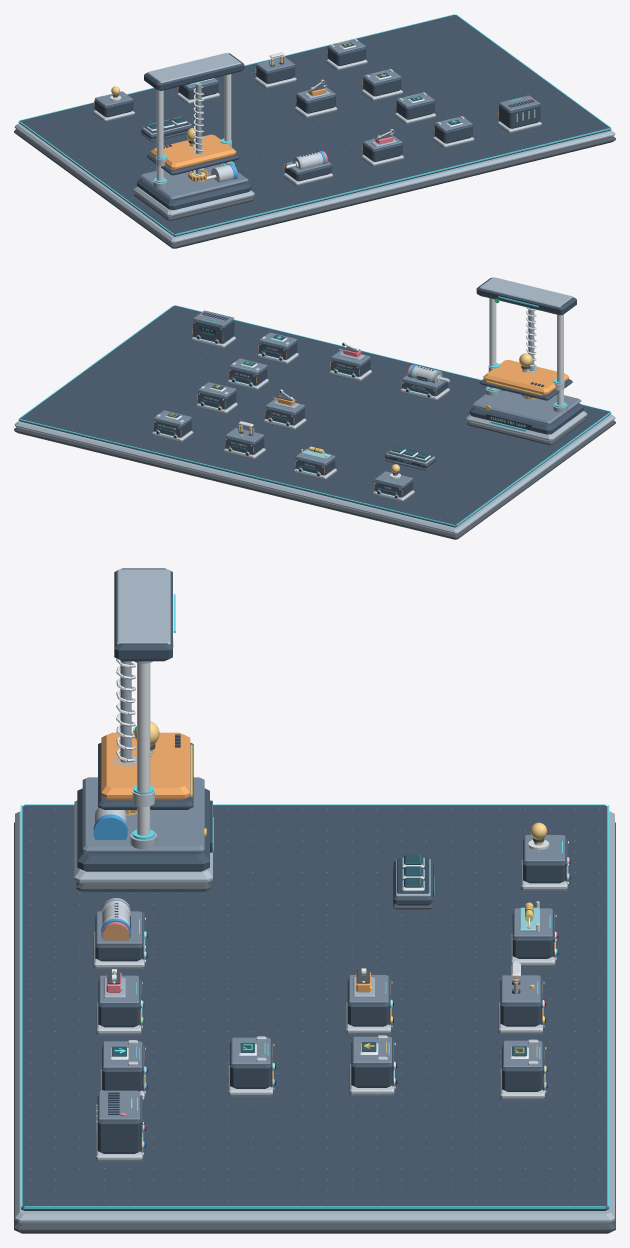
The model's file is level-30.fbx.
The picture shows the model from 3 angles, top to bottom: view 1: azimuth 30°, elevation 25°; view 2: azimuth 150°, elevation 25°; view 3: azimuth 270°, elevation 25°; orthographic projection. The views are drawn at different scales.
Parts seen in each view (by area): view 1: Model::00_Optional_ArtKit_Display__BOARD_Graphite_PegBoard, Model::00_Optional_ArtKit_Display__BOARD_Aluminum_DetailShel, Model::00_Optional_ArtKit_Display__BOARD_Rubber_NonSlip_Base, Model::12_Lift_Platform_AAA__LIFT_Orange_PlatformDeck__ANIMA, Model::12_Lift_Platform_AAA__LIFT_Access_Deck, Model::00_Optional_ArtKit_Display__BOARD_Neon_Cyan_ShortTrim (×2), Model::12_Lift_Platform_AAA__LIFT_Bridge_Upper_Chrome_Trim, Model::12_Lift_Platform_AAA__LIFT_Industrial_Graphite_Base, Model::12_Lift_Platform_AAA__LIFT_Bridge_Upper_Industrial_Be, Model::12_Lift_Platform_AAA__LIFT_Machined_Aluminum_Skid, Model::01_5V_Supply__PSU30_Chassis, Model::12_Lift_Platform_AAA__LIFT_Chromed_GuidePillar_-1.38 (+17 smaller); view 2: Model::00_Optional_ArtKit_Display__BOARD_Graphite_PegBoard, Model::00_Optional_ArtKit_Display__BOARD_Aluminum_DetailShel, Model::00_Optional_ArtKit_Display__BOARD_Rubber_NonSlip_Base, Model::12_Lift_Platform_AAA__LIFT_Access_Deck, Model::12_Lift_Platform_AAA__LIFT_Orange_PlatformDeck__ANIMA, Model::00_Optional_ArtKit_Display__BOARD_Neon_Cyan_ShortTrim (×2), Model::12_Lift_Platform_AAA__LIFT_Bridge_Upper_Chrome_Trim, Model::12_Lift_Platform_AAA__LIFT_Industrial_Graphite_Base, Model::12_Lift_Platform_AAA__LIFT_Bridge_Upper_Industrial_Be, Model::12_Lift_Platform_AAA__LIFT_Machined_Aluminum_Skid, Model::00_Optional_ArtKit_Display__BOARD_All_912_PerforatedS, Model::12_Lift_Platform_AAA__LIFT_Chromed_GuidePillar_-1.38 (+6 smaller); view 3: Model::00_Optional_ArtKit_Display__BOARD_Graphite_PegBoard, Model::00_Optional_ArtKit_Display__BOARD_Aluminum_DetailShel, Model::00_Optional_ArtKit_Display__BOARD_Rubber_NonSlip_Base, Model::12_Lift_Platform_AAA__LIFT_Access_Deck, Model::12_Lift_Platform_AAA__LIFT_Orange_PlatformDeck__ANIMA, Model::12_Lift_Platform_AAA__LIFT_Bridge_Upper_Chrome_Trim, Model::12_Lift_Platform_AAA__LIFT_Industrial_Graphite_Base, Model::00_Optional_ArtKit_Display__BOARD_Neon_Cyan_LongTrim_ (×2), Model::00_Optional_ArtKit_Display__BOARD_Neon_Cyan_ShortTrim (×2), Model::12_Lift_Platform_AAA__LIFT_Machined_Aluminum_Skid, Model::12_Lift_Platform_AAA__LIFT_Chromed_GuidePillar_1.38, Model::00_Optional_ArtKit_Display__BOARD_All_912_PerforatedS (+18 smaller).
Boxes of the visible parts, x1,y1,x2,y2 form: Model::00_Optional_ArtKit_Display__BOARD_Graphite_PegBoard: (18, 15, 611, 236); Model::00_Optional_ArtKit_Display__BOARD_Aluminum_DetailShel: (14, 123, 615, 243); Model::00_Optional_ArtKit_Display__BOARD_Rubber_NonSlip_Base: (14, 129, 615, 248); Model::12_Lift_Platform_AAA__LIFT_Orange_PlatformDeck__ANIMA: (150, 134, 236, 169); Model::12_Lift_Platform_AAA__LIFT_Access_Deck: (139, 164, 248, 200); Model::00_Optional_ArtKit_Display__BOARD_Neon_Cyan_ShortTrim (×2): (19, 14, 610, 235); Model::12_Lift_Platform_AAA__LIFT_Bridge_Upper_Chrome_Trim: (147, 53, 240, 83); Model::12_Lift_Platform_AAA__LIFT_Industrial_Graphite_Base: (137, 179, 251, 210); Model::12_Lift_Platform_AAA__LIFT_Bridge_Upper_Industrial_Be: (144, 53, 244, 90); Model::12_Lift_Platform_AAA__LIFT_Machined_Aluminum_Skid: (133, 186, 254, 216); Model::01_5V_Supply__PSU30_Chassis: (499, 104, 540, 128); Model::12_Lift_Platform_AAA__LIFT_Chromed_GuidePillar_-1.38: (156, 90, 163, 180); Model::00_Optional_ArtKit_Display__BOARD_Graphite_PegBoard: (18, 305, 611, 527); Model::00_Optional_ArtKit_Display__BOARD_Aluminum_DetailShel: (14, 414, 615, 534); Model::00_Optional_ArtKit_Display__BOARD_Rubber_NonSlip_Base: (14, 420, 615, 539); Model::12_Lift_Platform_AAA__LIFT_Access_Deck: (472, 389, 581, 424); Model::12_Lift_Platform_AAA__LIFT_Orange_PlatformDeck__ANIMA: (483, 360, 568, 394); Model::00_Optional_ArtKit_Display__BOARD_Neon_Cyan_ShortTrim (×2): (19, 305, 610, 526); Model::12_Lift_Platform_AAA__LIFT_Bridge_Upper_Chrome_Trim: (479, 277, 573, 307); Model::12_Lift_Platform_AAA__LIFT_Industrial_Graphite_Base: (469, 403, 583, 434); Model::12_Lift_Platform_AAA__LIFT_Bridge_Upper_Industrial_Be: (476, 277, 576, 315); Model::12_Lift_Platform_AAA__LIFT_Machined_Aluminum_Skid: (466, 411, 587, 441); Model::00_Optional_ArtKit_Display__BOARD_All_912_PerforatedS: (26, 310, 603, 519); Model::12_Lift_Platform_AAA__LIFT_Chromed_GuidePillar_-1.38: (557, 314, 563, 405); Model::00_Optional_ArtKit_Display__BOARD_Graphite_PegBoard: (21, 805, 608, 1210); Model::00_Optional_ArtKit_Display__BOARD_Aluminum_DetailShel: (15, 811, 614, 1223); Model::00_Optional_ArtKit_Display__BOARD_Rubber_NonSlip_Base: (14, 822, 615, 1233); Model::12_Lift_Platform_AAA__LIFT_Access_Deck: (82, 777, 204, 853); Model::12_Lift_Platform_AAA__LIFT_Orange_PlatformDeck__ANIMA: (101, 732, 190, 800); Model::12_Lift_Platform_AAA__LIFT_Bridge_Upper_Chrome_Trim: (116, 569, 170, 644); Model::12_Lift_Platform_AAA__LIFT_Industrial_Graphite_Base: (77, 788, 209, 871); Model::00_Optional_ArtKit_Display__BOARD_Neon_Cyan_LongTrim_ (×2): (24, 804, 605, 1208); Model::00_Optional_ArtKit_Display__BOARD_Neon_Cyan_ShortTrim (×2): (20, 805, 609, 1207); Model::12_Lift_Platform_AAA__LIFT_Machined_Aluminum_Skid: (74, 800, 212, 884); Model::12_Lift_Platform_AAA__LIFT_Chromed_GuidePillar_1.38: (137, 663, 150, 835); Model::00_Optional_ArtKit_Display__BOARD_All_912_PerforatedS: (29, 809, 600, 1200).
Size of the model in its own units: 18.15 by 5.64 by 11.29.
